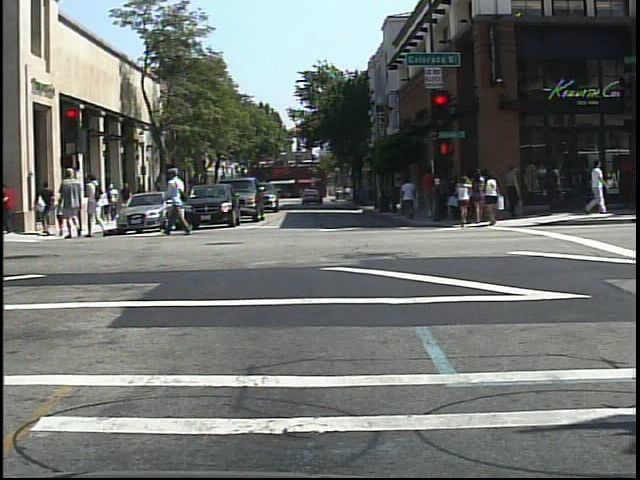person: (163, 165, 194, 236), (61, 166, 88, 240), (86, 169, 109, 239)
